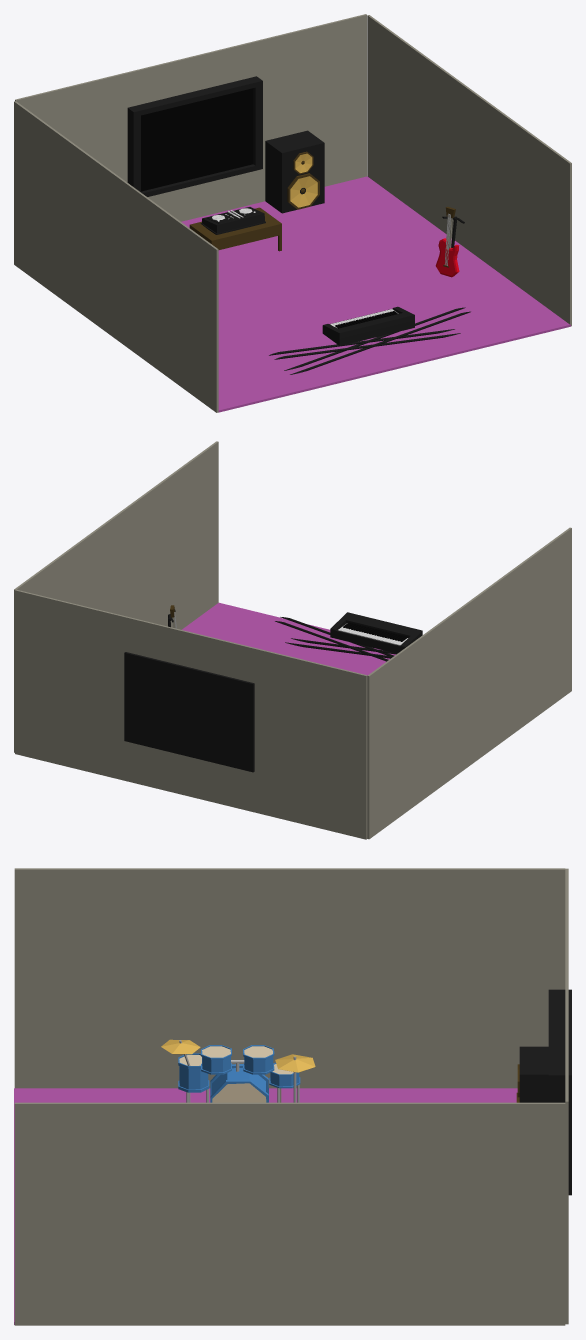
The model's file is dj_minigame.fbx.
3 renders of one model, top to bottom at view 1: azimuth 30°, elevation 25°; view 2: azimuth 150°, elevation 25°; view 3: azimuth 270°, elevation 25°, orthographic. The views are drawn at different scales.
Parts seen in each view (by area): view 1: Cube.001, Cube, Cube.002, Cube.004, Cube.005, Cube.016, Cube.003, Cylinder.016, Cube.006, Cylinder.017, Cube.008; view 2: Cube.001, Cube.002, Cube.004, Cube, Cube.016, Cylinder.017, Cylinder.016; view 3: Cube.001, Cube, Cube.004, Cube.002, Cube.005, Cylinder.001, Cylinder.013, Cylinder, Cylinder.002.
Part boxes in pixels (box(x1,y1,x2,y2)): Cube.001: box(14, 15, 571, 412); Cube: box(181, 176, 570, 412); Cube.002: box(15, 14, 366, 221); Cube.004: box(127, 76, 262, 196); Cube.005: box(265, 130, 324, 213); Cube.016: box(322, 306, 414, 345); Cube.003: box(189, 207, 281, 251); Cylinder.016: box(269, 329, 460, 359); Cube.006: box(200, 207, 265, 234); Cylinder.017: box(284, 307, 470, 374); Cube.008: box(435, 238, 459, 277); Cube.001: box(14, 441, 571, 839); Cube.002: box(15, 589, 367, 839); Cube.004: box(124, 652, 254, 772); Cube: box(182, 602, 395, 675); Cube.016: box(330, 612, 422, 653); Cylinder.017: box(275, 617, 394, 661); Cylinder.016: box(285, 638, 396, 658); Cube.001: box(14, 868, 565, 1325); Cube: box(14, 1088, 517, 1324); Cube.004: box(548, 989, 571, 1195); Cube.002: box(565, 868, 568, 1324); Cube.005: box(516, 1046, 548, 1102); Cylinder.001: box(210, 1064, 268, 1102); Cylinder.013: box(178, 1053, 209, 1092); Cylinder: box(243, 1045, 274, 1074); Cylinder.002: box(201, 1045, 231, 1074).
Bounding box in the file's own units: 1852 × 907 × 1852.
